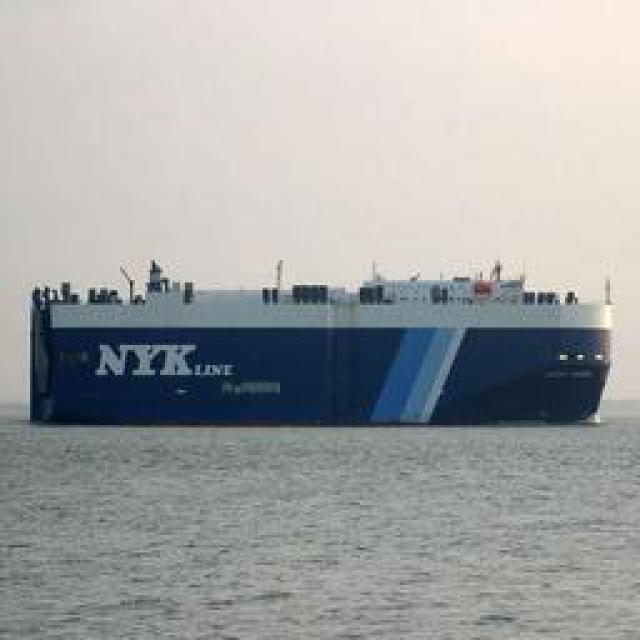Ship: (18, 255, 626, 433)
